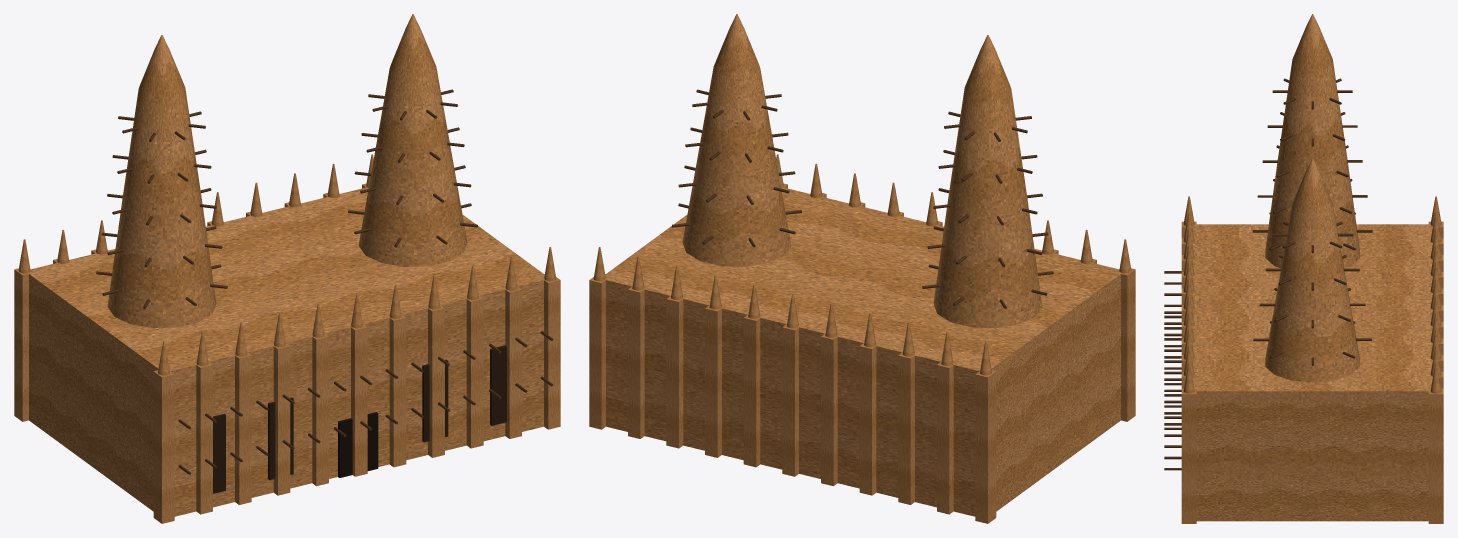
File: mosquee-bobo.glb
The picture shows the model from 3 angles, left to right: view 1: azimuth 30°, elevation 25°; view 2: azimuth 150°, elevation 25°; view 3: azimuth 270°, elevation 25°; orthographic projection. The views are drawn at different scales.
Visible parts, largest first — view 1: mosquee-bobo; view 2: mosquee-bobo; view 3: mosquee-bobo.
Boxes of the visible parts, x1,y1,x2,y2 form: mosquee-bobo: (14,14,560,523); mosquee-bobo: (589,14,1135,523); mosquee-bobo: (1164,14,1443,523).
Bounding box in the file's own units: 8.26 × 8.25 × 5.65.
Materials: 7 (1 with a texture image).
